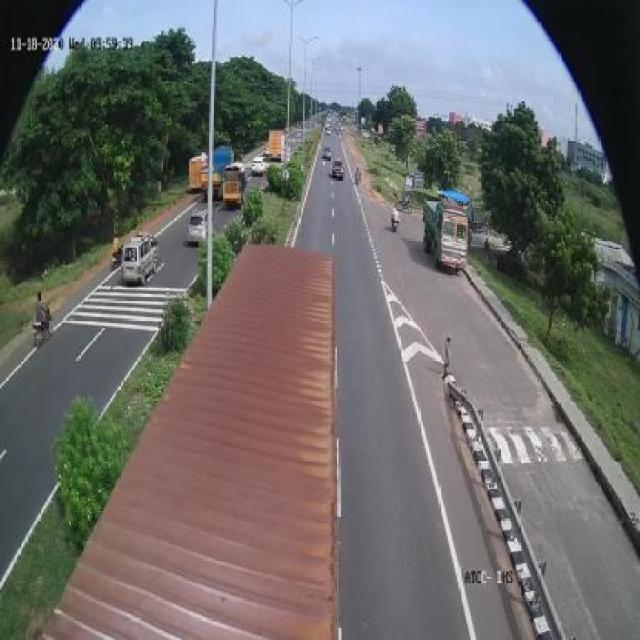car: (115, 225, 163, 289), (328, 153, 348, 184)
